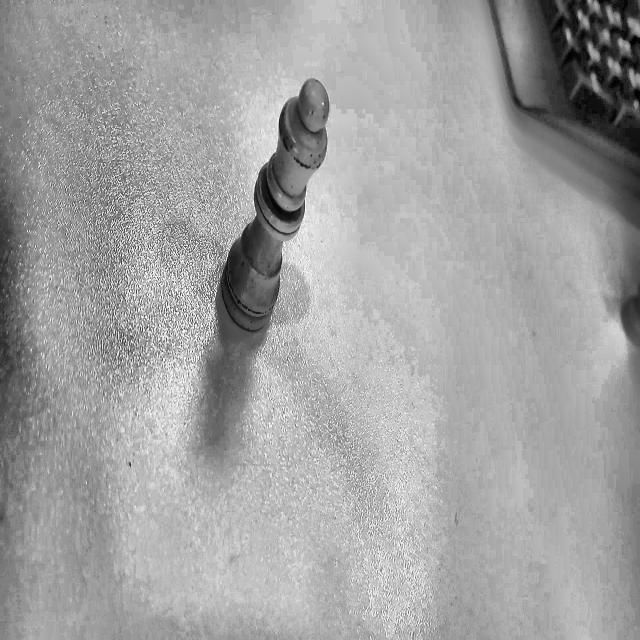white-queen: (204, 56, 353, 362)
